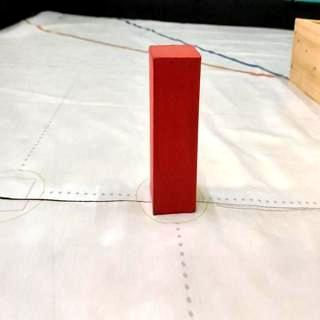redbox: (148, 44, 202, 215)
